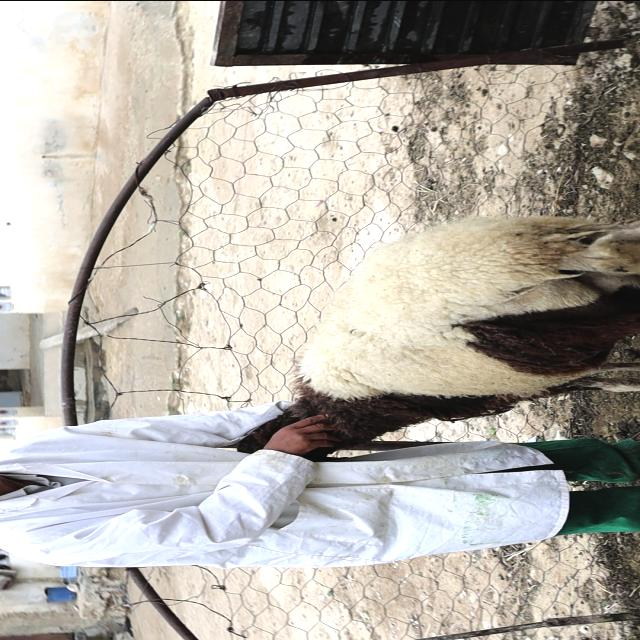Score_2: (238, 215, 639, 460)
